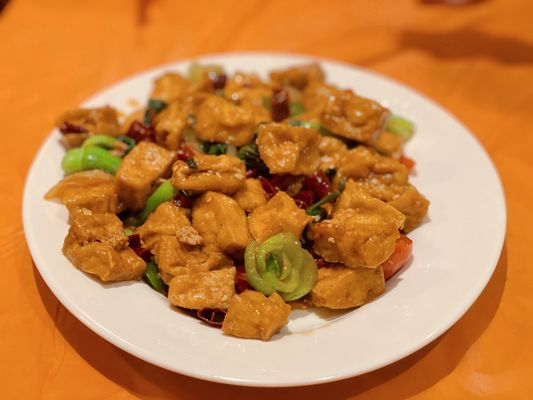curry: (3, 0, 533, 400)
